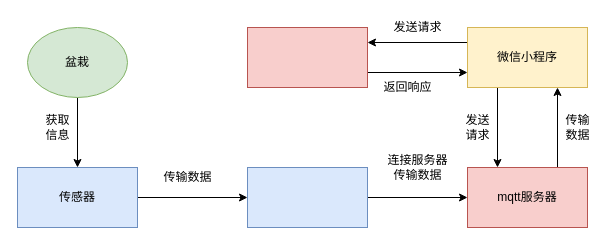
This 615x245 diagram has some shape labels left out. Here are the shapes that lost their labels. From the top down, the centre of each, then its label:
(x=307, y=57): 阿里云服务器
(x=307, y=197): esp8266单片机
